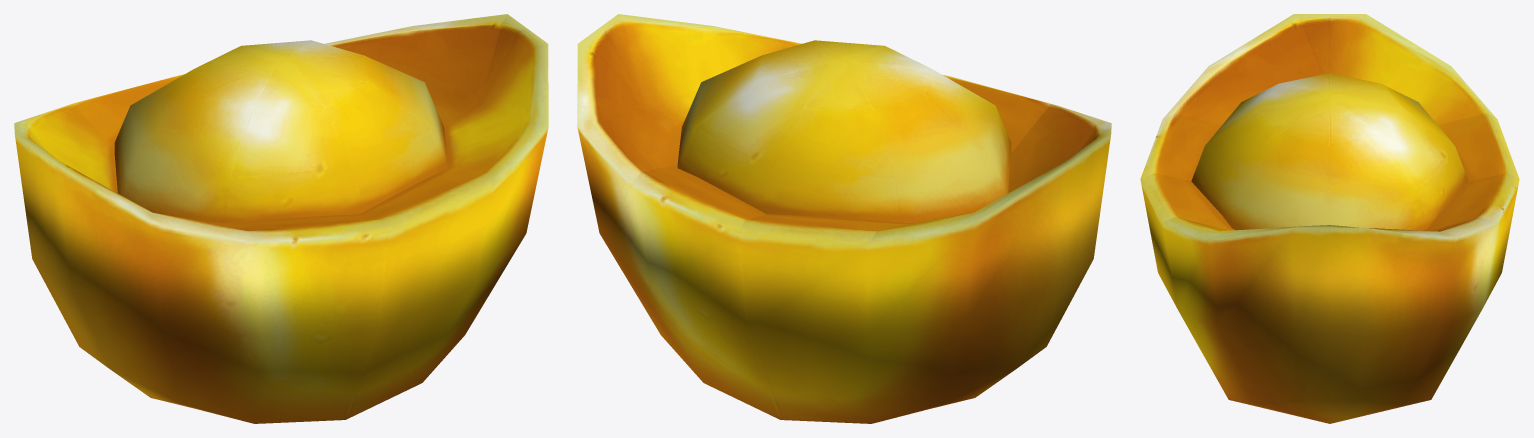
Rendered from dj_yuanbao1.fbx.
The picture shows the model from 3 angles, left to right: view 1: azimuth 30°, elevation 25°; view 2: azimuth 150°, elevation 25°; view 3: azimuth 270°, elevation 25°; orthographic projection. The views are drawn at different scales.
Parts seen in each view (by area): view 1: yuanbao_1; view 2: yuanbao_1; view 3: yuanbao_1.
Boxes of the visible parts, left/top/right/bottom form: yuanbao_1: left=14, top=14, right=548, bottom=423; yuanbao_1: left=577, top=14, right=1111, bottom=423; yuanbao_1: left=1140, top=14, right=1519, bottom=423.
Size of the model in its own units: 152 by 101 by 114.
